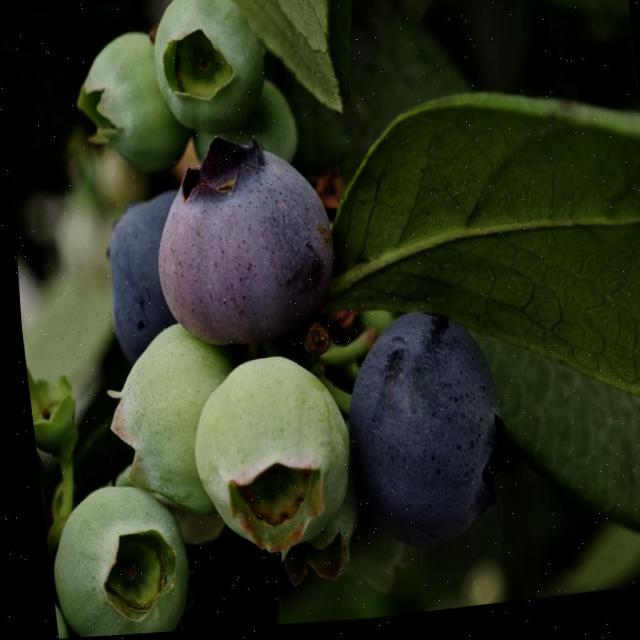RipeBlueBerry: (336, 306, 509, 554), (37, 480, 186, 640)
Semi-RipeBlueBerry: (143, 133, 334, 343)
UnripeBlueBerry: (181, 349, 351, 554), (145, 0, 267, 143)
